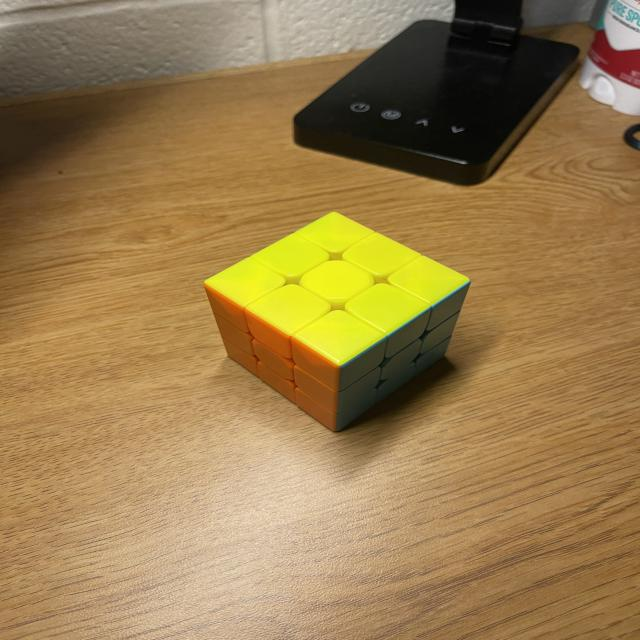Rubiks Cube: (204, 210, 469, 432)
